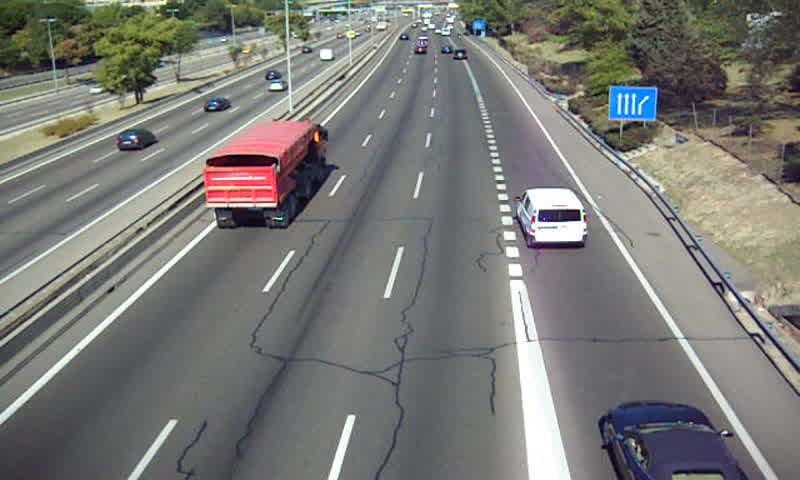car: (604, 402, 742, 480)
truck: (203, 121, 327, 231)
van: (515, 188, 587, 246)
